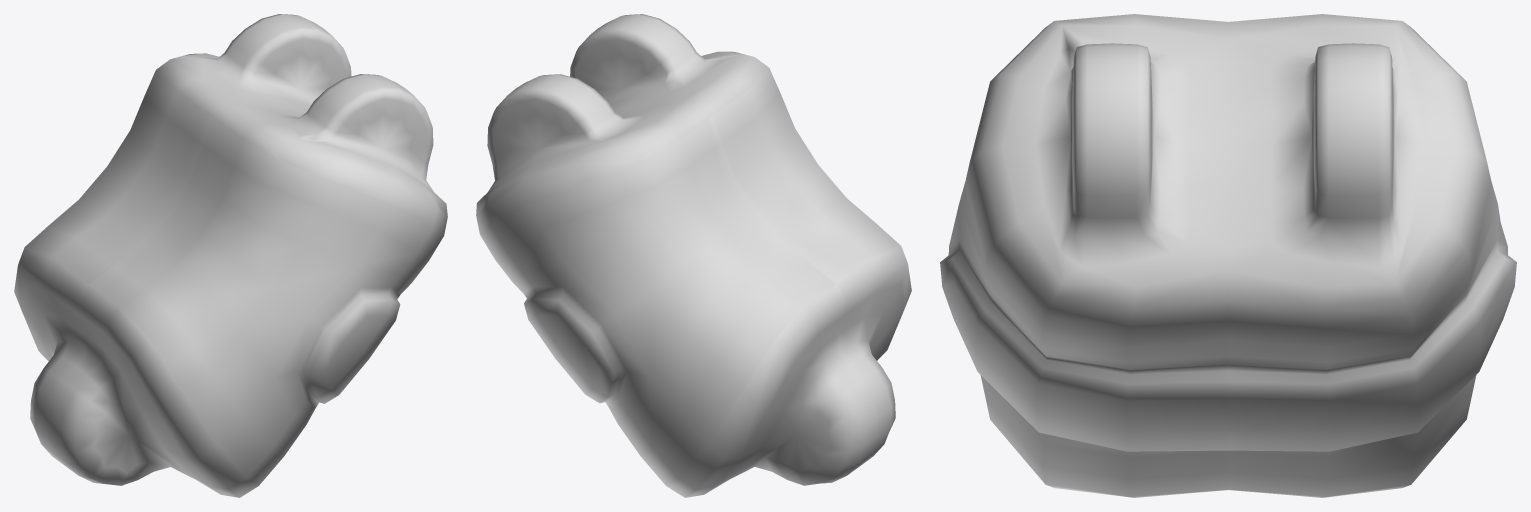
The model's file is second_kncckle_of_leftt_third_finger.obj.
3 renders of one model, left to right at view 1: azimuth 30°, elevation 25°; view 2: azimuth 150°, elevation 25°; view 3: azimuth 270°, elevation 25°, orthographic. The views are drawn at different scales.
Visible parts, largest first — view 1: polySurface13 _Robot_l2:Body; view 2: polySurface13 _Robot_l2:Body; view 3: polySurface13 _Robot_l2:Body.
Boxes of the visible parts, x1,y1,x2,y2 form: polySurface13 _Robot_l2:Body: (14, 14, 447, 497); polySurface13 _Robot_l2:Body: (476, 14, 911, 497); polySurface13 _Robot_l2:Body: (940, 14, 1516, 497).
Size of the model in its own units: 0.5259 by 0.5382 by 0.5152.
